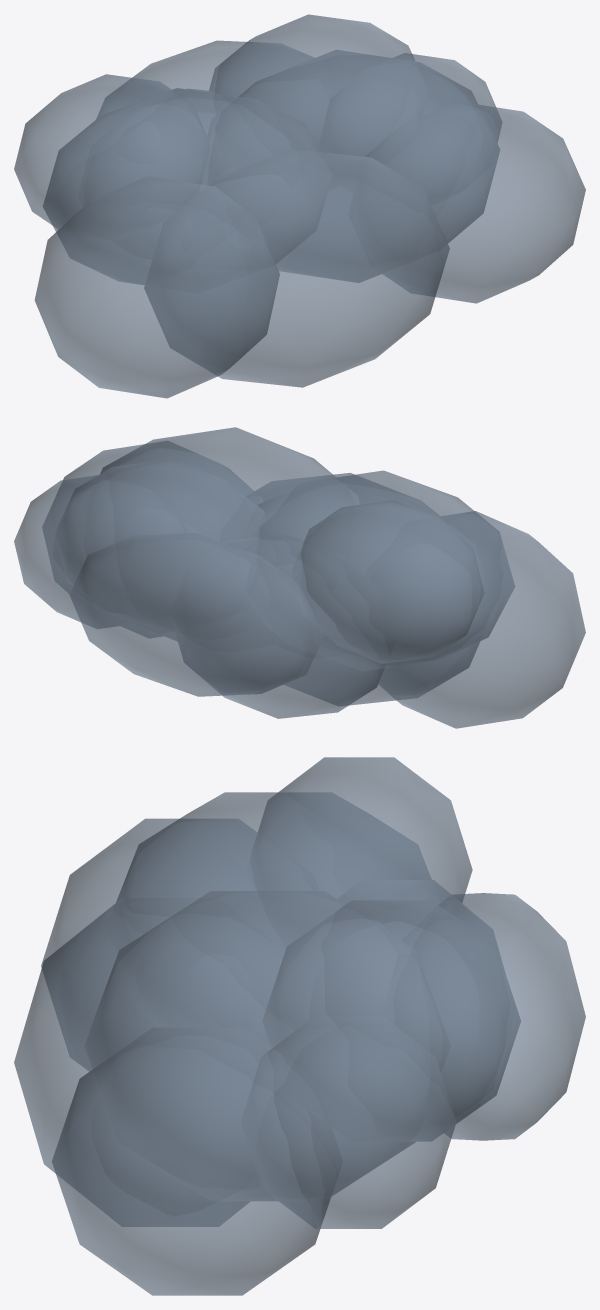
File: FogBankSection.fbx
The picture shows the model from 3 angles, top to bottom: view 1: azimuth 30°, elevation 25°; view 2: azimuth 150°, elevation 25°; view 3: azimuth 270°, elevation 25°; orthographic projection. The views are drawn at different scales.
Visible parts, largest first — view 1: FogVolume; view 2: FogVolume; view 3: FogVolume.
Boxes of the visible parts, x1=… form: FogVolume: x1=14, y1=14, x2=585, y2=398; FogVolume: x1=14, y1=427, x2=585, y2=728; FogVolume: x1=14, y1=757, x2=585, y2=1295.
Size of the model in its own units: 14.99 by 7.5 by 10.6.
